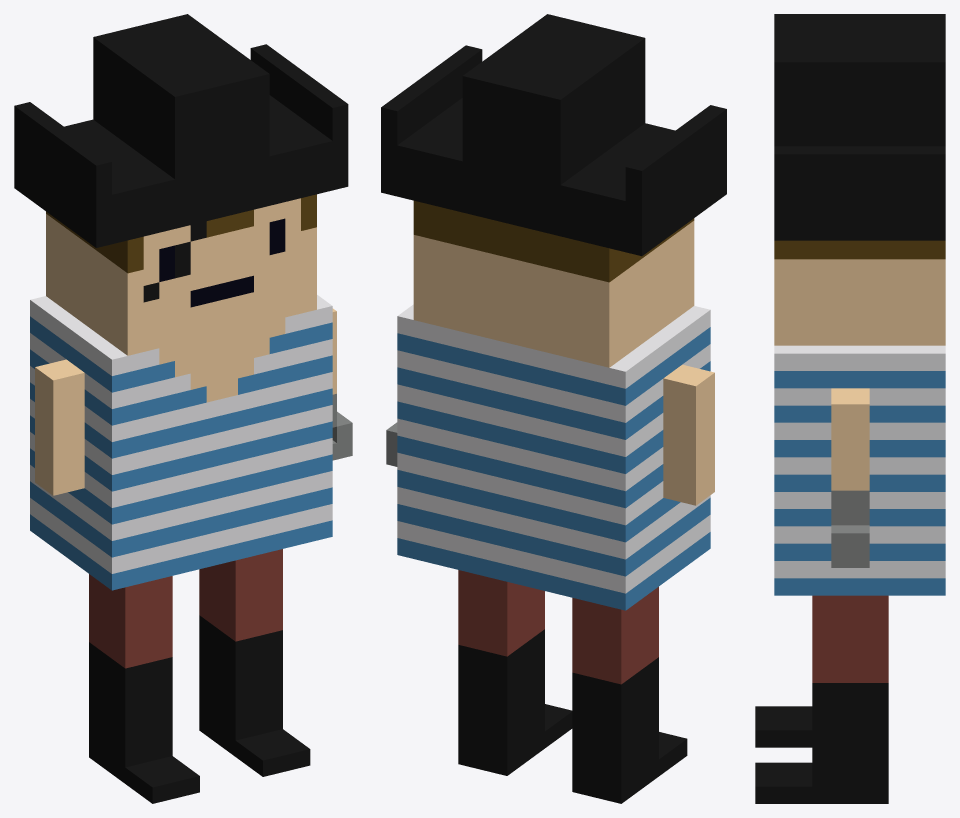
The model's file is Player13.obj.
3 views of the same model, side by side, from view 1: azimuth 30°, elevation 25°; view 2: azimuth 150°, elevation 25°; view 3: azimuth 270°, elevation 25° (orthographic). The views are drawn at different scales.
Visible parts, largest first — view 1: Player13; view 2: Player13; view 3: Player13.
Boxes of the visible parts, bbox=[...] form: Player13: bbox=[14, 14, 352, 803]; Player13: bbox=[381, 14, 726, 803]; Player13: bbox=[755, 14, 945, 803].
Size of the model in its own units: 19 by 42 by 10.
